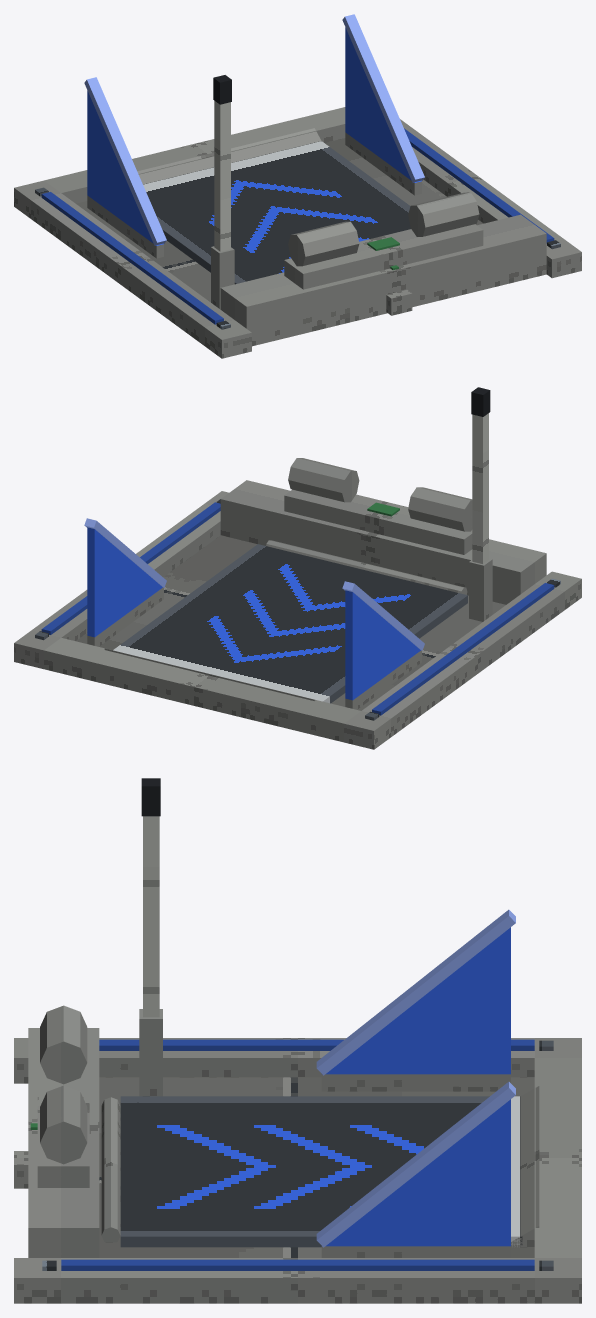
The model's file is ca_launch_cradle.glb.
3 views of the same model, one above another, from view 1: azimuth 30°, elevation 25°; view 2: azimuth 150°, elevation 25°; view 3: azimuth 270°, elevation 25° (orthographic). The views are drawn at different scales.
Visible parts, largest first — view 1: ca_launch_cradle, tray, move_fin_r_blade, move_fin_l_blade, move_fin_l, move_fin_r, boom, move_rail_l, move_rail_r, fin_l, fin_r, boom_tip; view 2: ca_launch_cradle, tray, move_fin_l_blade, move_fin_r_blade, boom, move_rail_l, move_rail_r, fin_l, fin_r, move_fin_l, move_fin_r, boom_tip; view 3: ca_launch_cradle, tray, move_fin_l_blade, move_fin_r_blade, move_rail_r, move_fin_l, move_fin_r, boom, fin_l, move_rail_l, fin_r, boom_tip.
Part boxes in pixels (x1,y1,x2,y2): ca_launch_cradle: (14, 107, 581, 358); tray: (143, 141, 410, 284); move_fin_r_blade: (345, 27, 421, 182); move_fin_l_blade: (87, 90, 163, 245); move_fin_l: (84, 77, 166, 245); move_fin_r: (342, 14, 424, 182); boom: (214, 101, 230, 251); move_rail_l: (41, 192, 223, 324); move_rail_r: (404, 128, 554, 243); fin_l: (87, 195, 163, 258); fin_r: (345, 132, 421, 195); boom_tip: (213, 75, 231, 104); ca_launch_cradle: (14, 458, 581, 749); tray: (113, 544, 467, 703); move_fin_l_blade: (345, 590, 420, 700); move_fin_r_blade: (87, 527, 162, 637); boom: (472, 413, 488, 563); move_rail_l: (372, 583, 554, 715); move_rail_r: (41, 502, 220, 634); fin_l: (345, 650, 421, 709); fin_r: (87, 587, 163, 646); move_fin_l: (342, 581, 424, 650); move_fin_r: (84, 518, 166, 587); boom_tip: (471, 387, 490, 416); ca_launch_cradle: (14, 1005, 581, 1303); tray: (120, 1096, 522, 1247); move_fin_l_blade: (326, 927, 510, 1074); move_fin_r_blade: (326, 1099, 510, 1246); move_rail_r: (61, 1259, 534, 1270); move_fin_l: (316, 909, 515, 1075); move_fin_r: (316, 1081, 515, 1247); boom: (143, 816, 159, 1017); fin_l: (321, 1074, 510, 1091); move_rail_l: (99, 1039, 534, 1050); fin_r: (321, 1246, 510, 1257); boom_tip: (141, 778, 160, 816).
Size of what is drawn, in the model's own units: 2.4 by 1.47 by 2.4.
Materials: 10 (10 with a texture image).
